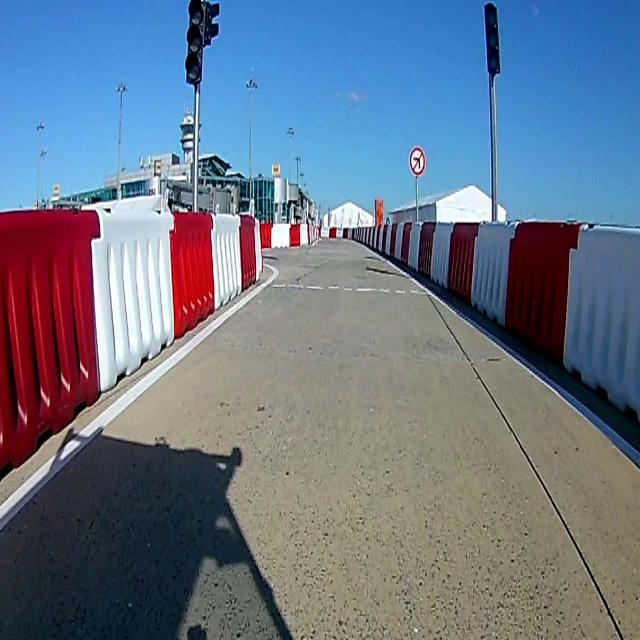soladonulmez: (408, 141, 426, 176)
